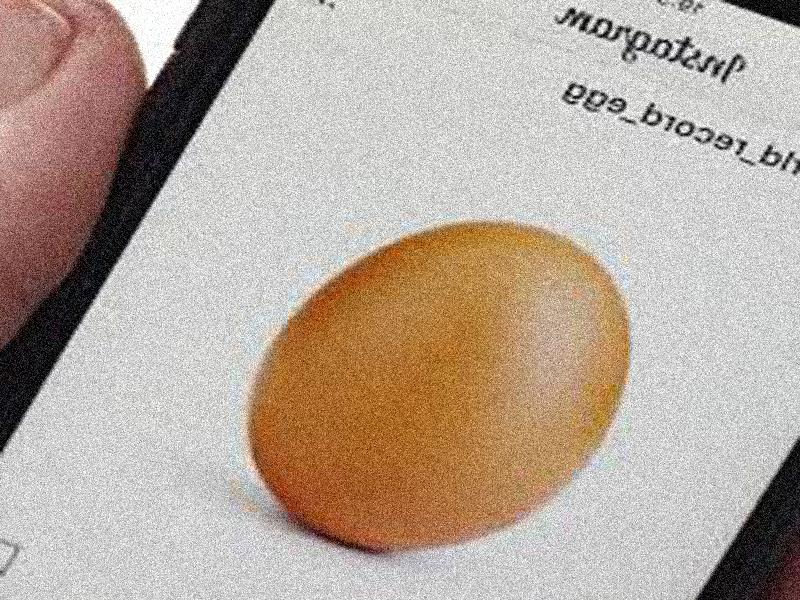Eggs: (248, 221, 628, 549)
